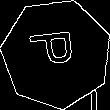P_E: (29, 32, 84, 75)
